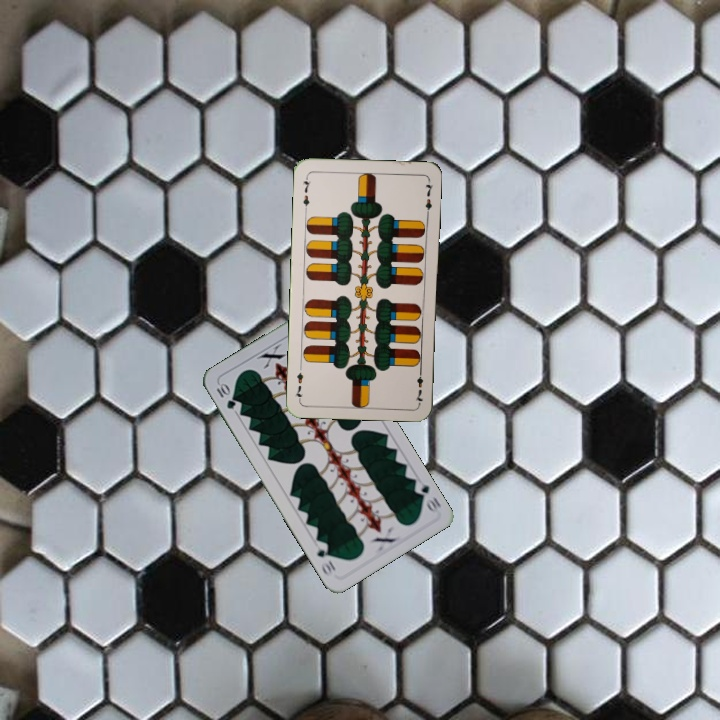E7: (411, 365, 426, 405), (299, 173, 313, 213)
G10: (410, 477, 444, 514), (212, 379, 238, 412)
